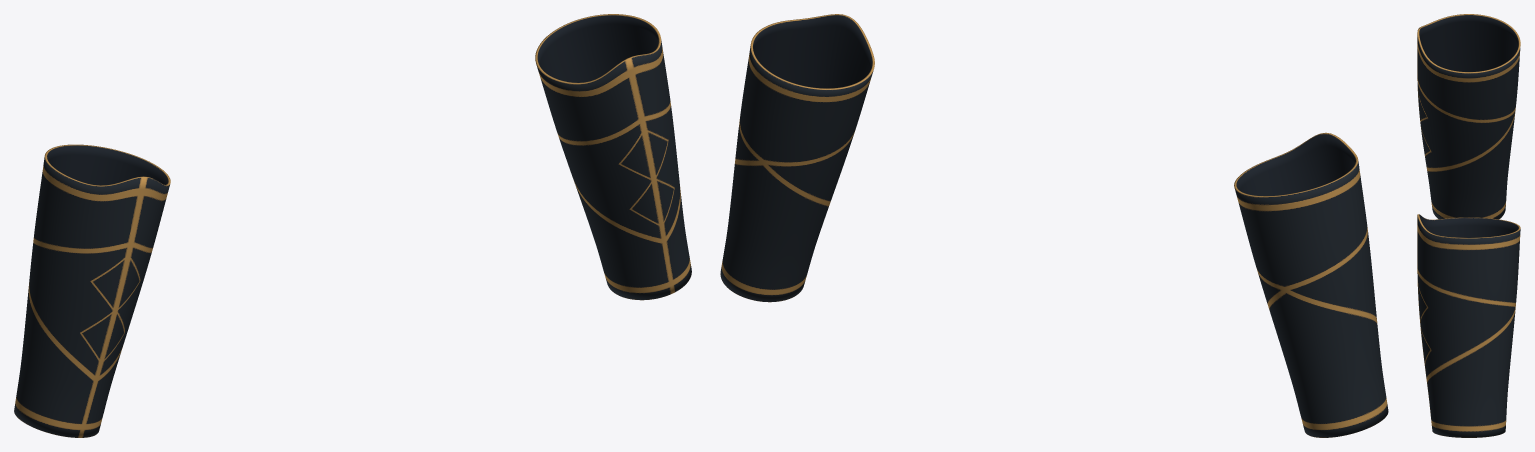
Rendered from SM_ObsidianSovereign_Forearms_preview_2K.glb.
The picture shows the model from 3 angles, left to right: view 1: azimuth 30°, elevation 25°; view 2: azimuth 150°, elevation 25°; view 3: azimuth 270°, elevation 25°; orthographic projection. The views are drawn at different scales.
Visible parts, largest first — view 1: SM_ObsidianSovereign_Forearms_R, SM_ObsidianSovereign_Forearms_L; view 2: SM_ObsidianSovereign_Forearms_R, SM_ObsidianSovereign_Forearms_L; view 3: SM_ObsidianSovereign_Forearms_L, SM_ObsidianSovereign_Forearms_R.
Boxes of the visible parts, left/top/right/bottom form: SM_ObsidianSovereign_Forearms_R: left=14, top=144, right=170, bottom=437; SM_ObsidianSovereign_Forearms_L: left=535, top=14, right=691, bottom=300; SM_ObsidianSovereign_Forearms_R: left=1234, top=132, right=1388, bottom=437; SM_ObsidianSovereign_Forearms_L: left=720, top=14, right=874, bottom=302; SM_ObsidianSovereign_Forearms_L: left=1417, top=214, right=1520, bottom=437; SM_ObsidianSovereign_Forearms_R: left=1417, top=14, right=1520, bottom=219.
Bounding box in the file's own units: 0.7879 × 0.299 × 0.1381.
1 material, 1 textured.
